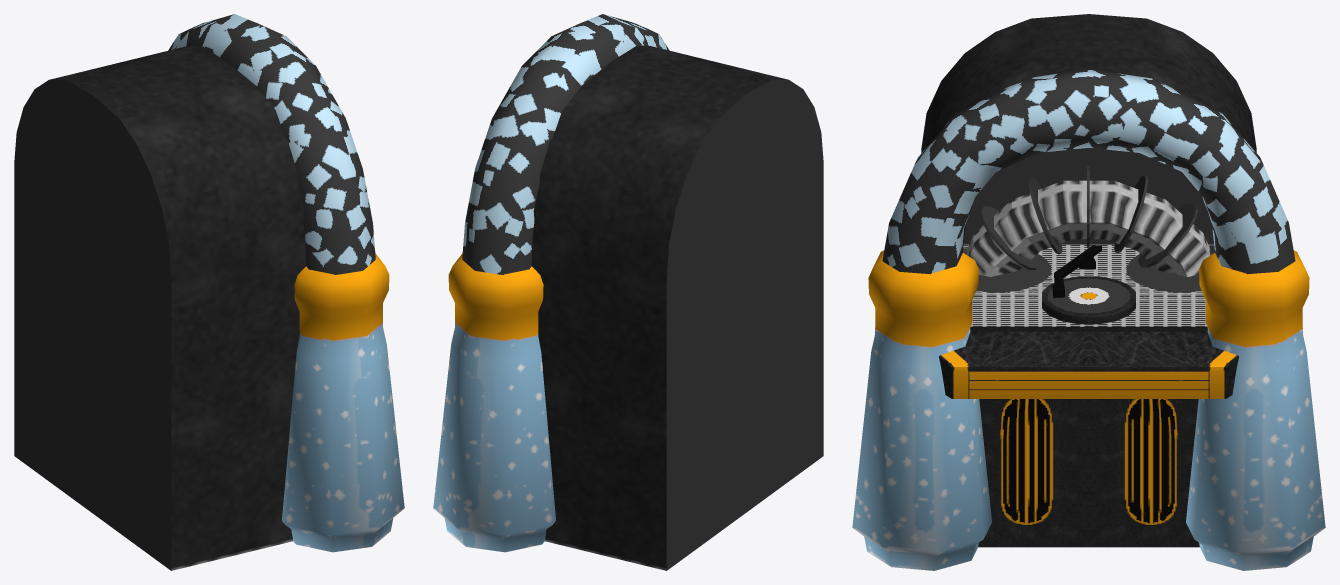
Rendered from salt-jukebox.glb.
The picture shows the model from 3 angles, left to right: view 1: azimuth 30°, elevation 25°; view 2: azimuth 150°, elevation 25°; view 3: azimuth 270°, elevation 25°; orthographic projection. The views are drawn at different scales.
Parts seen in each view (by area): view 1: Body.LP.Salt, Shaker, Arch.Salt; view 2: Body.LP.Salt, Shaker, Arch.Salt; view 3: Body.LP.Salt, Shaker, Arch.Salt, Board, Torus.007, LP.LP.Salt, LP.Ring.003, Cube.052.
Part boxes in pixels (x1,y1,x2,y2): Body.LP.Salt: (14, 46, 306, 570); Shaker: (282, 253, 404, 552); Arch.Salt: (168, 14, 375, 274); Body.LP.Salt: (531, 46, 823, 570); Shaker: (433, 253, 555, 552); Arch.Salt: (462, 14, 669, 274); Body.LP.Salt: (921, 14, 1256, 547); Shaker: (852, 250, 1325, 570); Arch.Salt: (882, 69, 1295, 274); Board: (939, 331, 1238, 398); Torus.007: (965, 180, 1212, 276); LP.LP.Salt: (1042, 276, 1135, 324); LP.Ring.003: (963, 166, 1214, 269); Cube.052: (1052, 245, 1101, 297).
Size of what is drawn, in the model's own units: 1.28 by 2.42 by 2.19.
4 materials, 4 textured.
